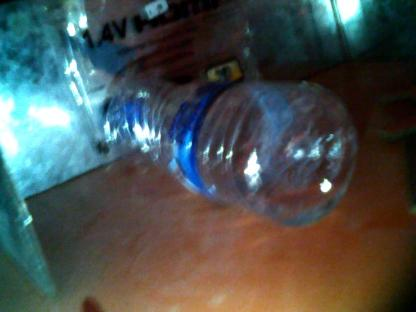Plastic Bottle: (102, 72, 358, 232)
